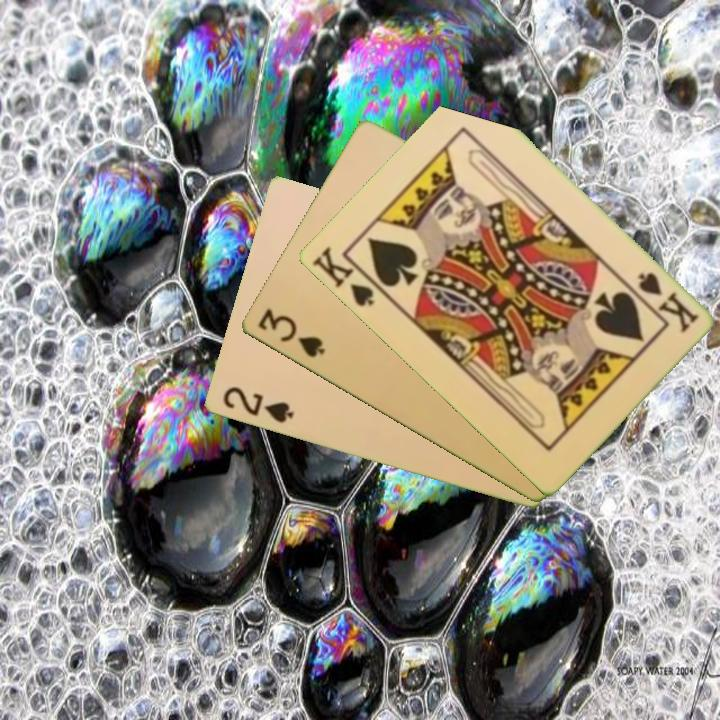2s: (219, 383, 296, 427)
3s: (253, 305, 328, 361)
Ks: (308, 242, 377, 310), (633, 268, 701, 336)
